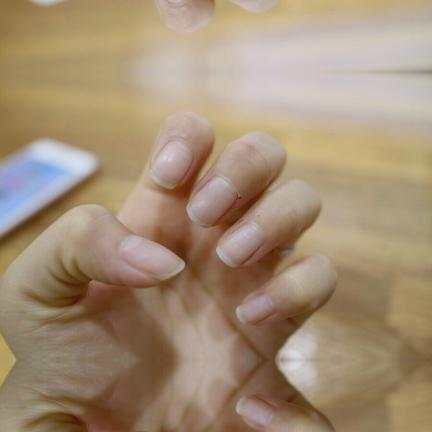Nail: (119, 236, 185, 280), (186, 177, 239, 227), (216, 222, 263, 268), (149, 140, 193, 189), (236, 294, 275, 325), (236, 395, 275, 426), (167, 0, 185, 4)
